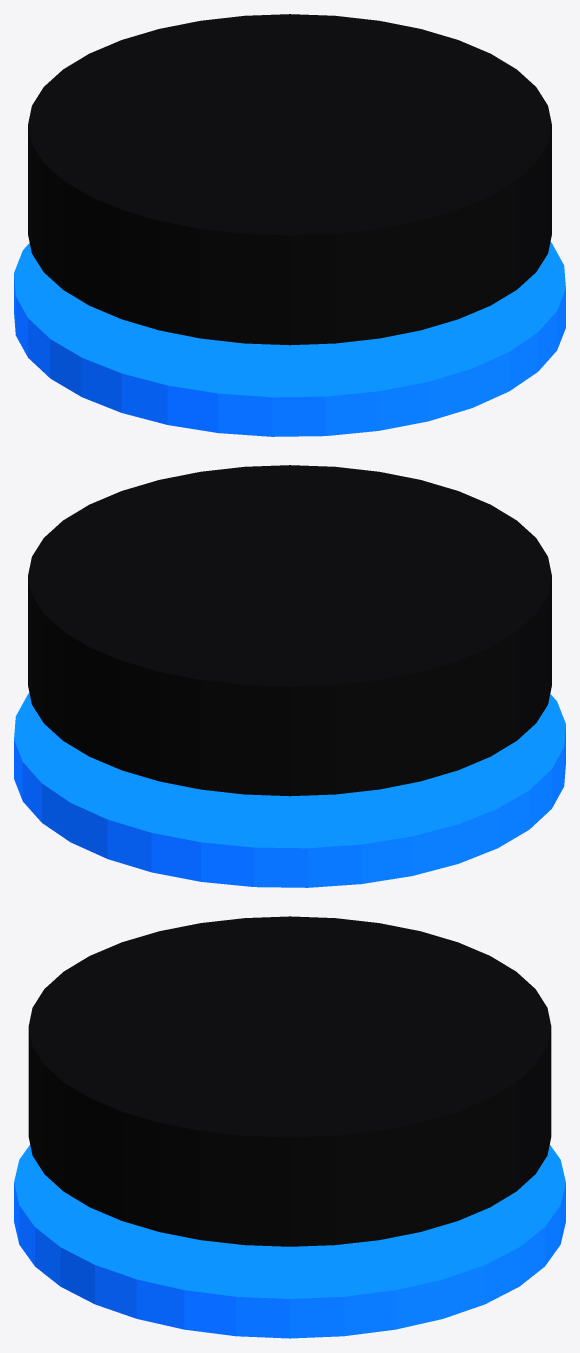
The model's file is sports_hockey_puck.dae.
3 renders of one model, top to bottom at view 1: azimuth 30°, elevation 25°; view 2: azimuth 150°, elevation 25°; view 3: azimuth 270°, elevation 25°, orthographic.
Parts seen in each view (by area): view 1: 04_11_Popular_Sports_Hockey_Puck_part_01, 04_11_Popular_Sports_Hockey_Puck_ROOT_base; view 2: 04_11_Popular_Sports_Hockey_Puck_part_01, 04_11_Popular_Sports_Hockey_Puck_ROOT_base; view 3: 04_11_Popular_Sports_Hockey_Puck_part_01, 04_11_Popular_Sports_Hockey_Puck_ROOT_base.
Part boxes in pixels (box(x1,y1,x2,y2)): 04_11_Popular_Sports_Hockey_Puck_part_01: box(28, 14, 551, 345); 04_11_Popular_Sports_Hockey_Puck_ROOT_base: box(14, 242, 565, 436); 04_11_Popular_Sports_Hockey_Puck_part_01: box(28, 465, 551, 796); 04_11_Popular_Sports_Hockey_Puck_ROOT_base: box(14, 693, 565, 887); 04_11_Popular_Sports_Hockey_Puck_part_01: box(28, 916, 551, 1246); 04_11_Popular_Sports_Hockey_Puck_ROOT_base: box(14, 1145, 565, 1338).
Bounding box in the file's own units: 0.76 × 0.2962 × 0.76.
